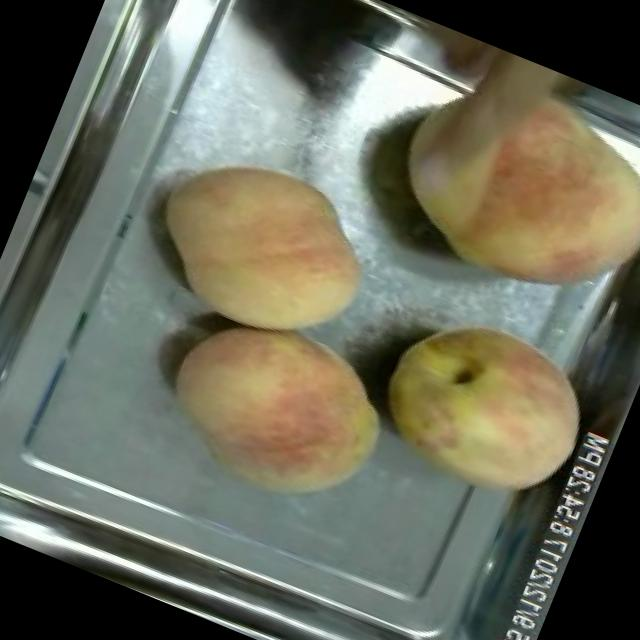Fruit: (353, 23, 640, 347), (139, 281, 417, 534), (124, 121, 401, 373), (354, 281, 624, 530)
